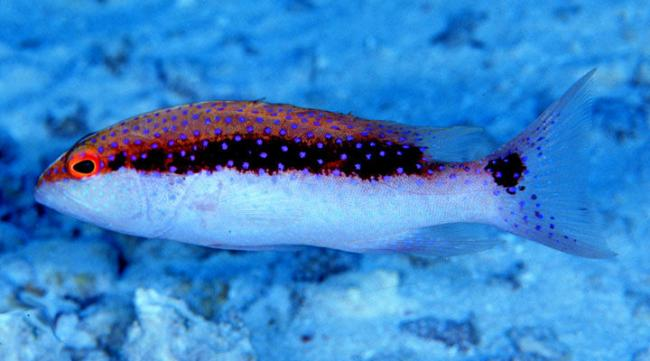fish: (32, 65, 618, 262)
